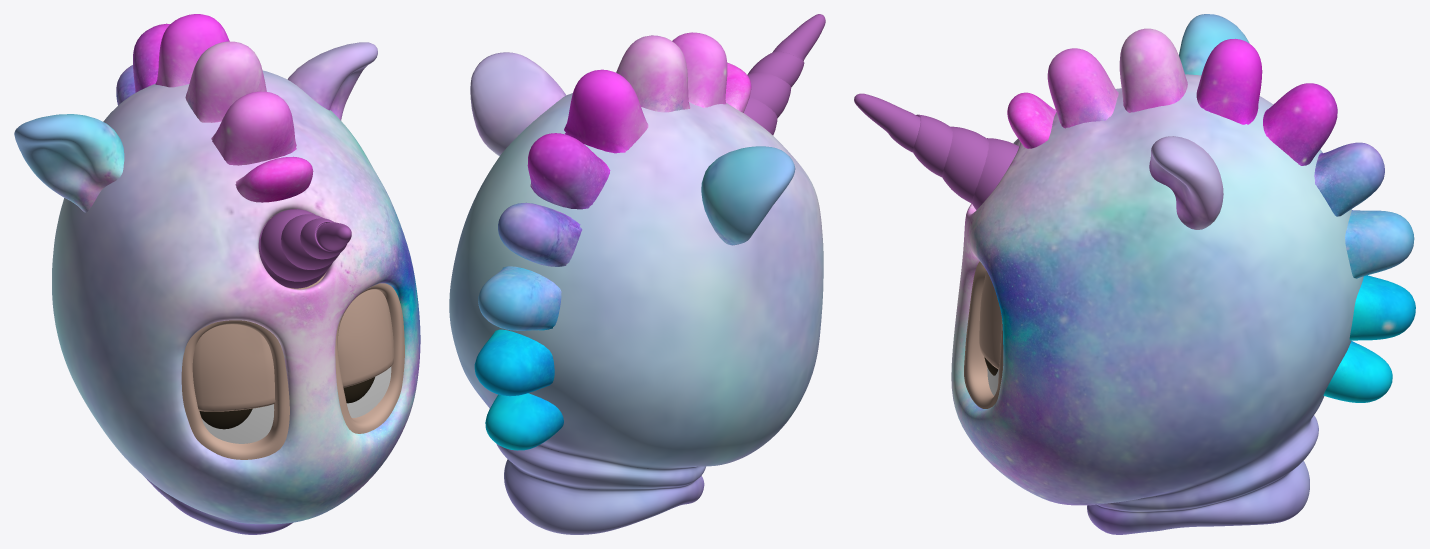
The picture shows the model from 3 angles, left to right: view 1: azimuth 30°, elevation 25°; view 2: azimuth 150°, elevation 25°; view 3: azimuth 270°, elevation 25°; orthographic projection. The views are drawn at different scales.
Visible parts, largest first — view 1: Daydreamer_Balaclava.001, Face.019, Eyelid_right.015, Daydreamer__Horn.001, Eyelid_left.015, Sclera.018, Pupil_right.007; view 2: Daydreamer_Balaclava.001, Daydreamer__Horn.001; view 3: Daydreamer_Balaclava.001, Daydreamer__Horn.001, Face.019, Eyelid_left.015.
Boxes of the visible parts, x1,y1,x2,y2 form: Daydreamer_Balaclava.001: [14, 14, 420, 534]; Face.019: [181, 218, 404, 459]; Eyelid_right.015: [192, 324, 275, 411]; Daydreamer__Horn.001: [258, 209, 351, 288]; Eyelid_left.015: [338, 289, 393, 387]; Sclera.018: [202, 366, 391, 443]; Pupil_right.007: [199, 408, 252, 429]; Daydreamer_Balaclava.001: [449, 32, 823, 534]; Daydreamer__Horn.001: [744, 14, 825, 135]; Daydreamer_Balaclava.001: [951, 14, 1415, 534]; Daydreamer__Horn.001: [854, 93, 1019, 209]; Face.019: [964, 261, 1003, 408]; Eyelid_left.015: [979, 271, 1001, 369].
Size of the model in its own units: 0.8379 by 1.13 by 1.19.
4 materials, 1 textured.
